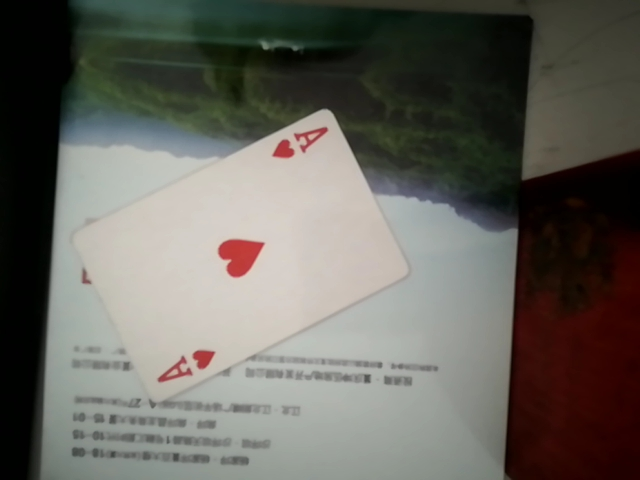hx a: (80, 103, 393, 397)
